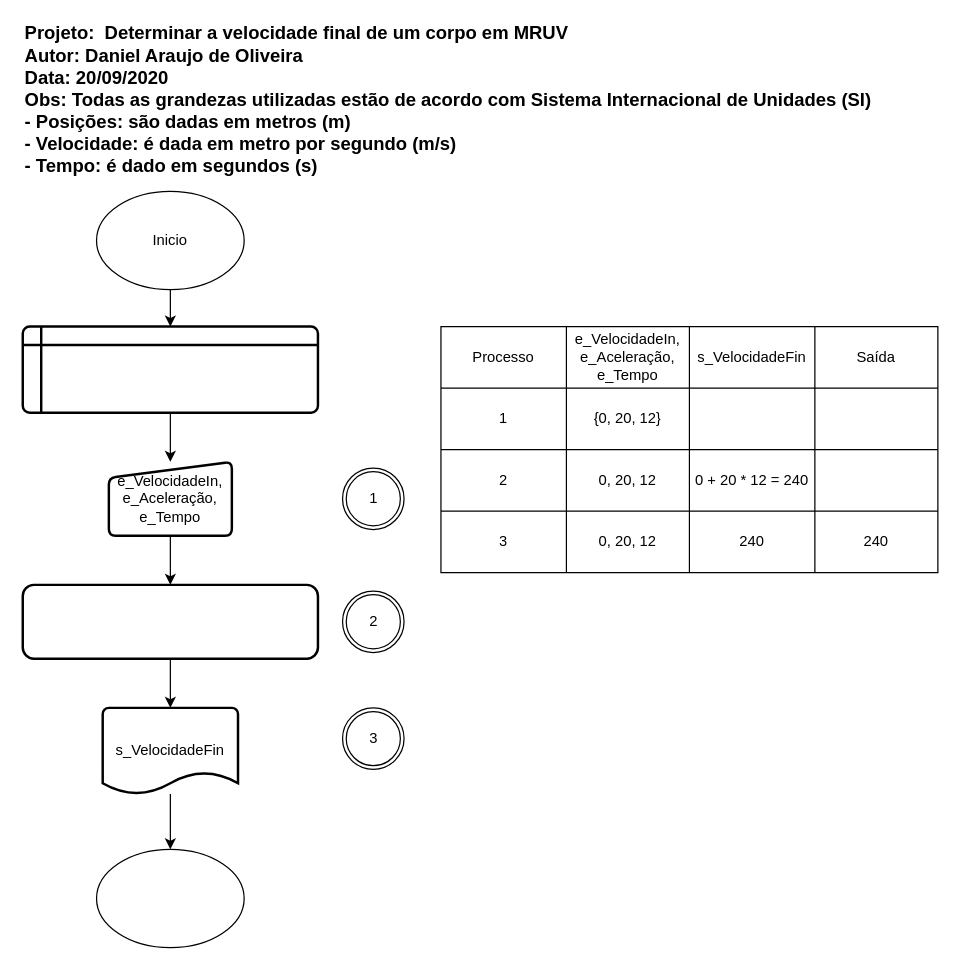
Some shapes in this 959 by 969 pixel diagram are drawn without their labels. Here are the shapes that lost their labels. From the top down, the centre of each, then its label:
At (x=170, y=369): "e_VelocidadeIn, e_Aceleração, e_Tempo, s_VelocidadeFin".
At (x=170, y=621): "s_VelocidadeFin = e_VelocidadeIn + e_Aceleração * e_Tempo".
At (x=169, y=898): "Fim".
